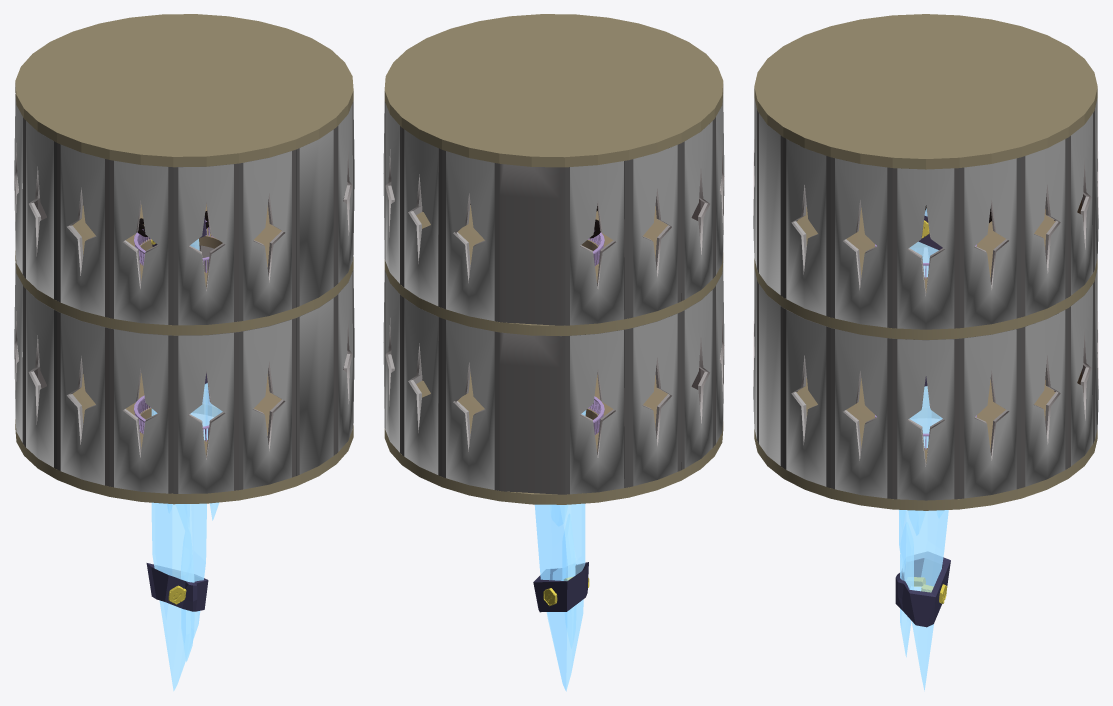
Rendered from Tower_Tall_Top.fbx.
The picture shows the model from 3 angles, left to right: view 1: azimuth 30°, elevation 25°; view 2: azimuth 150°, elevation 25°; view 3: azimuth 270°, elevation 25°; orthographic projection.
Visible parts, largest first — view 1: walls.014, walls.015, floor.007, crystal.003, floorwithhole.011, floorwithhole.009, crystalloops.003; view 2: walls.014, walls.015, floor.007, crystal.003, floorwithhole.009, floorwithhole.011, crystalloops.003; view 3: walls.014, walls.015, floor.007, crystal.003, floorwithhole.009, floorwithhole.011, crystalloops.003.
Part boxes in pixels (x1,y1,x2,y2): walls.014: (14,245,354,493); walls.015: (14,94,354,325); floor.007: (15,14,353,167); crystal.003: (151,239,222,691); floorwithhole.011: (15,204,353,335); floorwithhole.009: (15,373,353,504); crystalloops.003: (146,216,208,611); walls.014: (383,263,724,494); walls.015: (383,94,724,325); floor.007: (384,14,723,167); crystal.003: (534,410,586,691); floorwithhole.009: (384,372,723,504); floorwithhole.011: (384,205,723,335); crystalloops.003: (533,562,588,612); walls.014: (753,248,1098,500); walls.015: (753,98,1098,329); floor.007: (754,14,1097,169); crystal.003: (898,208,948,691); floorwithhole.009: (754,378,1097,510); floorwithhole.011: (754,207,1097,339); crystalloops.003: (895,212,950,627).
Size of the model in its own units: 9049 by 17669 by 9049.
